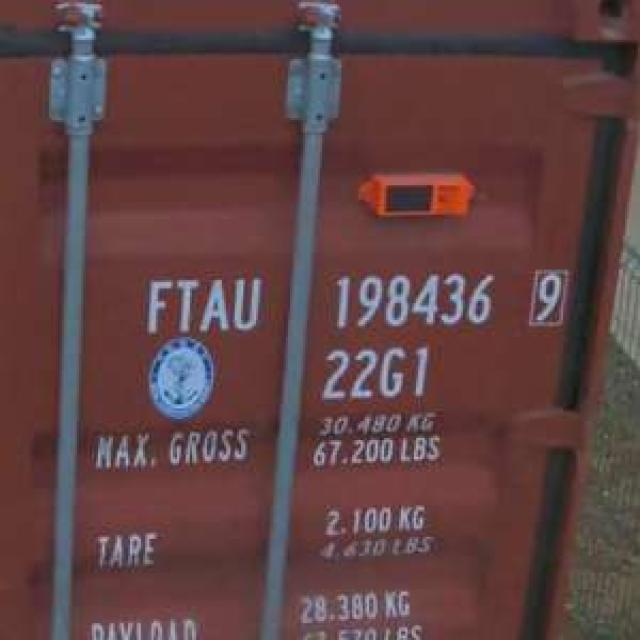dv: (525, 263, 574, 331)
owner: (136, 269, 266, 339)
serial: (324, 263, 499, 335)
size: (314, 341, 435, 406)
